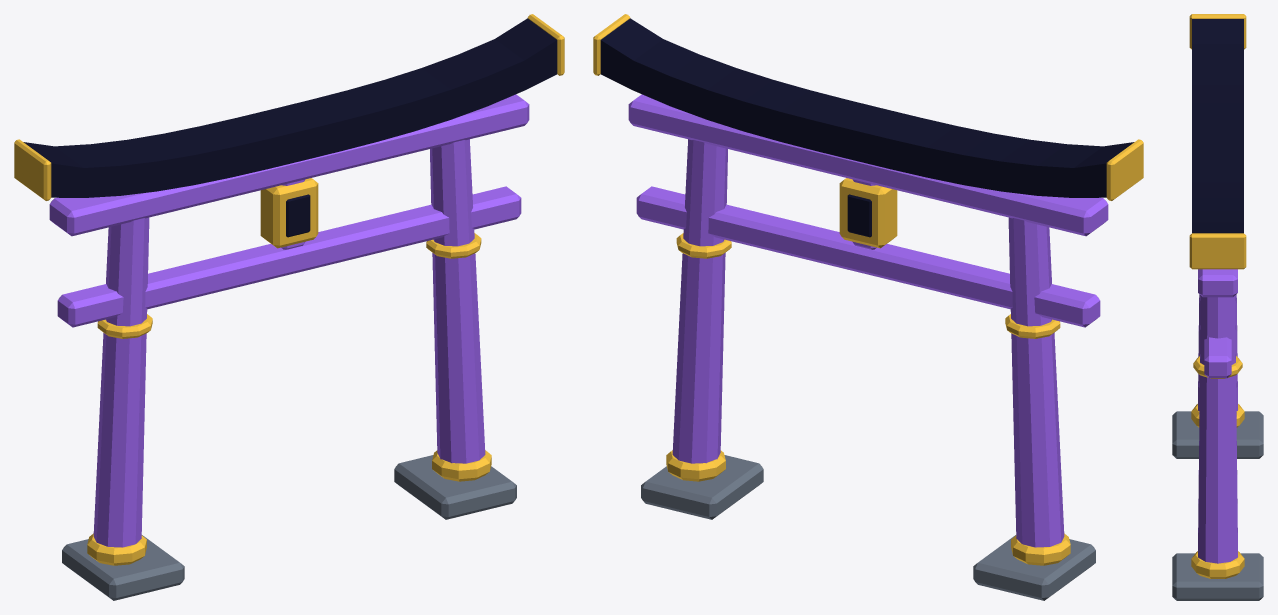
File: Prop_realm_of_legends_GreatTorii.glb
3 views of the same model, side by side, from view 1: azimuth 30°, elevation 25°; view 2: azimuth 150°, elevation 25°; view 3: azimuth 270°, elevation 25° (orthographic). The views are drawn at different scales.
Parts seen in each view (by area): view 1: ZoneViolet_A66BFF, Ink_0D0F2B, StoneDark_6B7686, Gold_FFC83D; view 2: ZoneViolet_A66BFF, Ink_0D0F2B, StoneDark_6B7686, Gold_FFC83D; view 3: ZoneViolet_A66BFF, Ink_0D0F2B, StoneDark_6B7686, Gold_FFC83D.
Boxes of the visible parts, <box> form: ZoneViolet_A66BFF: <box>49,94,529,547</box>; Ink_0D0F2B: <box>23,18,557,237</box>; StoneDark_6B7686: <box>62,455,516,600</box>; Gold_FFC83D: <box>14,14,564,565</box>; ZoneViolet_A66BFF: <box>628,94,1108,547</box>; Ink_0D0F2B: <box>600,18,1134,237</box>; StoneDark_6B7686: <box>641,455,1095,600</box>; Gold_FFC83D: <box>593,14,1143,565</box>; ZoneViolet_A66BFF: <box>1198,269,1237,563</box>; Ink_0D0F2B: <box>1192,19,1243,233</box>; StoneDark_6B7686: <box>1172,411,1263,600</box>; Gold_FFC83D: <box>1189,14,1246,578</box>.
Bounding box in the file's own units: 34.5 × 28.3 × 6.
